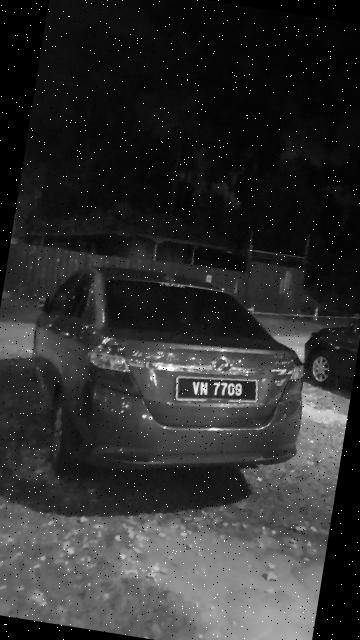License_Plate: (176, 366, 261, 412)
car: (10, 254, 325, 506)
